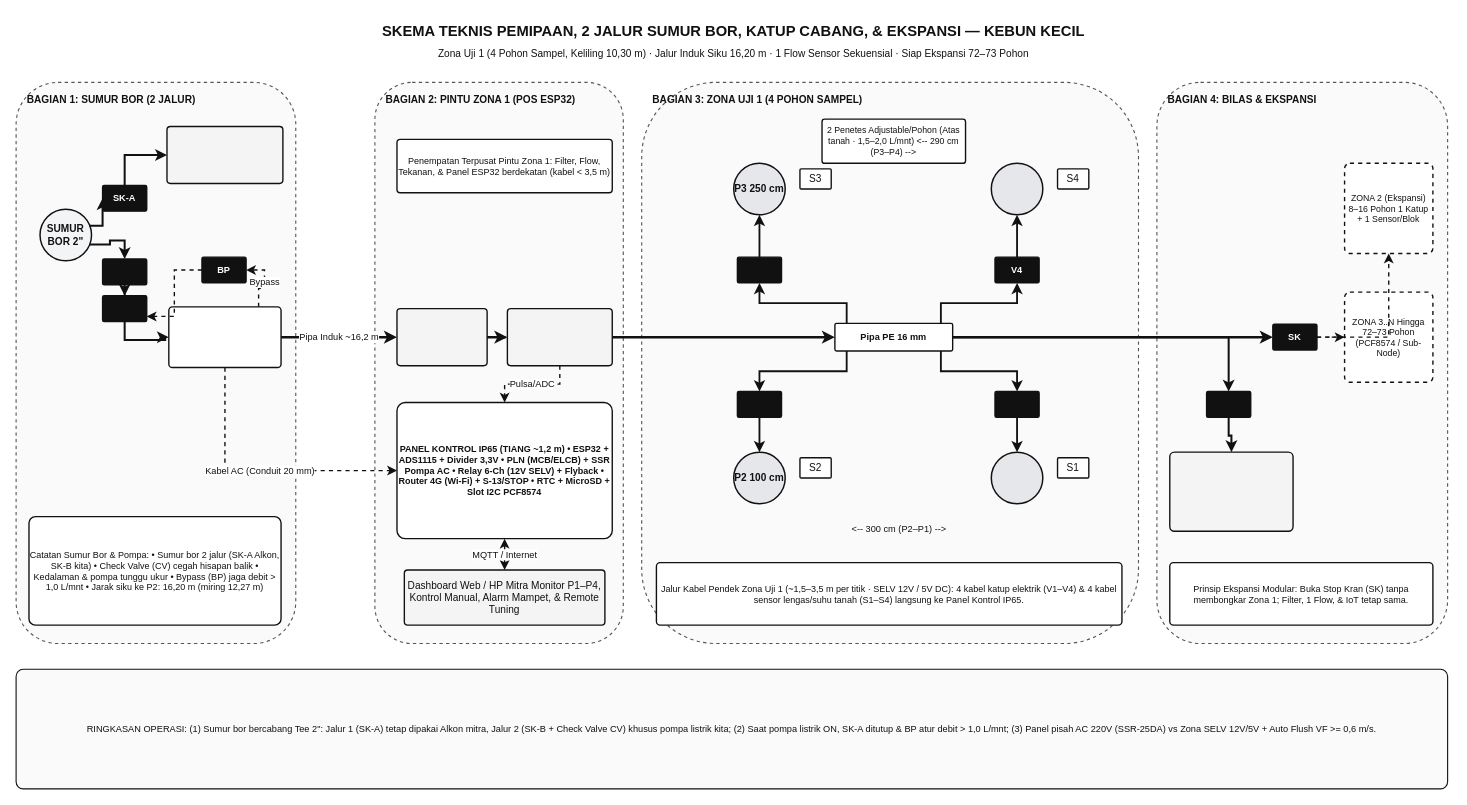
This 1467x805 diagram has some shape labels left out. The centre of each missing label's shape, as x and y in pixels:
"1x Flow (YF-B1) & Tekanan [P_min, P_max]" belongs at point 559,337.
"Auto End-Flush Q = 6 L/mnt (30–45 dtk) v >= 0,6 m/s [Z-16] ke saluran buang" belongs at point 1231,491.
"CV" belongs at point 124,308.
"Disc Filter 120–150 Mesh (Lapis 1)" belongs at point 441,337.
"P1 46 cm" belongs at point 1016,477.
"P4 210 cm" belongs at point 1016,188.
"Pompa AC 220V (125W Non-Cast Iron) Jalur 2 · Sistem Kita" belongs at point 224,337.
"Pompa Alkon Bensin (Jalur 1 · Eksisting Mitra) 68–69 Pohon Lain" belongs at point 224,154.
"SK-B" belongs at point 124,271.
"V1" belongs at point 1016,403.
"V2" belongs at point 759,403.
"V3" belongs at point 759,269.
"VF" belongs at point 1228,403.
